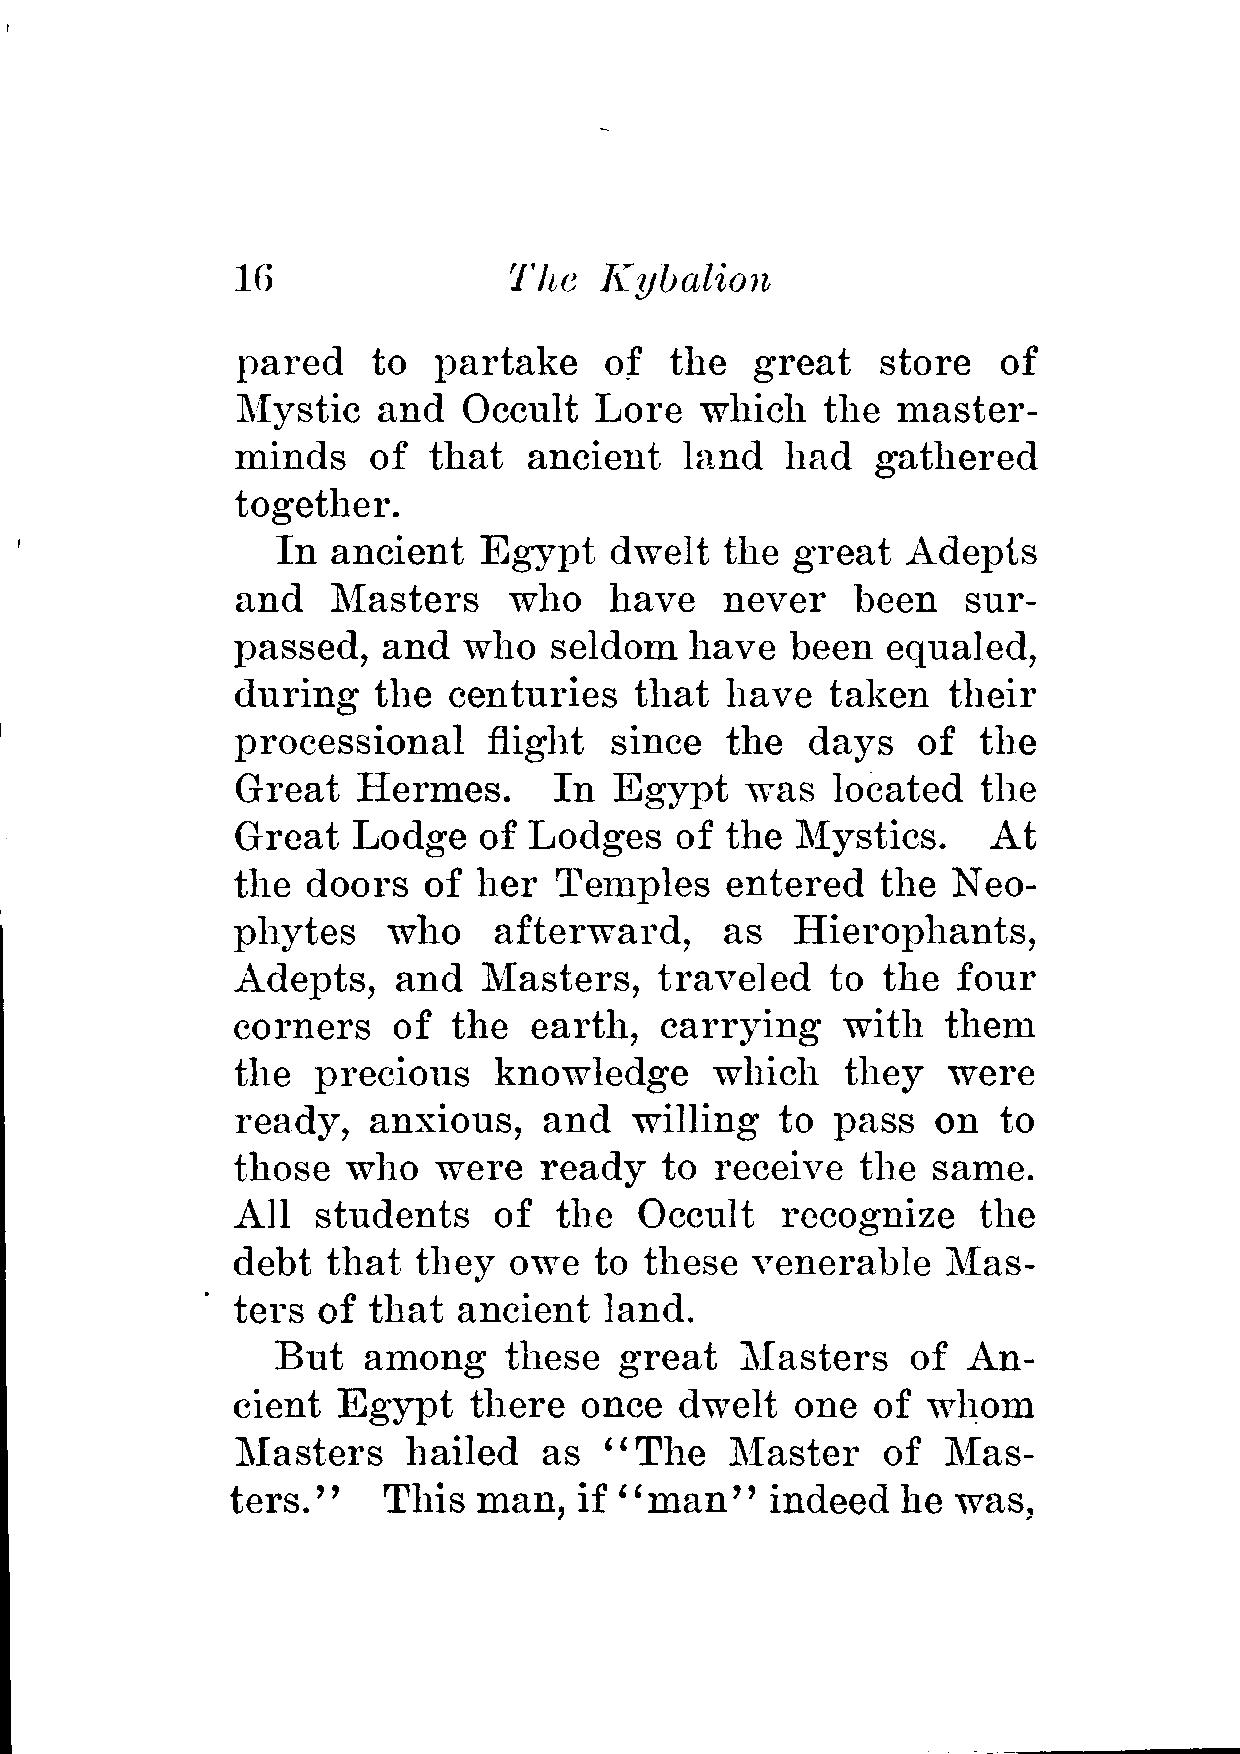content: (231, 336, 1041, 1520)
content_chapter: (502, 256, 772, 302)
content_pagenumber: (231, 256, 280, 299)
